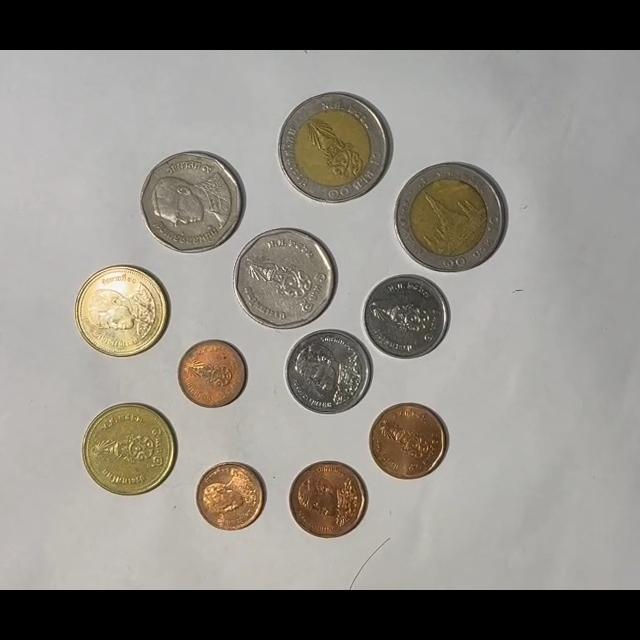1-baht: (285, 329, 372, 416), (362, 274, 449, 360)
10-baht: (278, 91, 392, 205), (394, 163, 506, 273)
2-baht: (82, 403, 177, 496), (75, 265, 168, 358)
25-satang: (195, 461, 266, 532), (178, 339, 247, 408)
5-baht: (233, 227, 336, 331), (141, 151, 245, 254)
50-satang: (289, 461, 367, 539), (369, 403, 447, 480)
